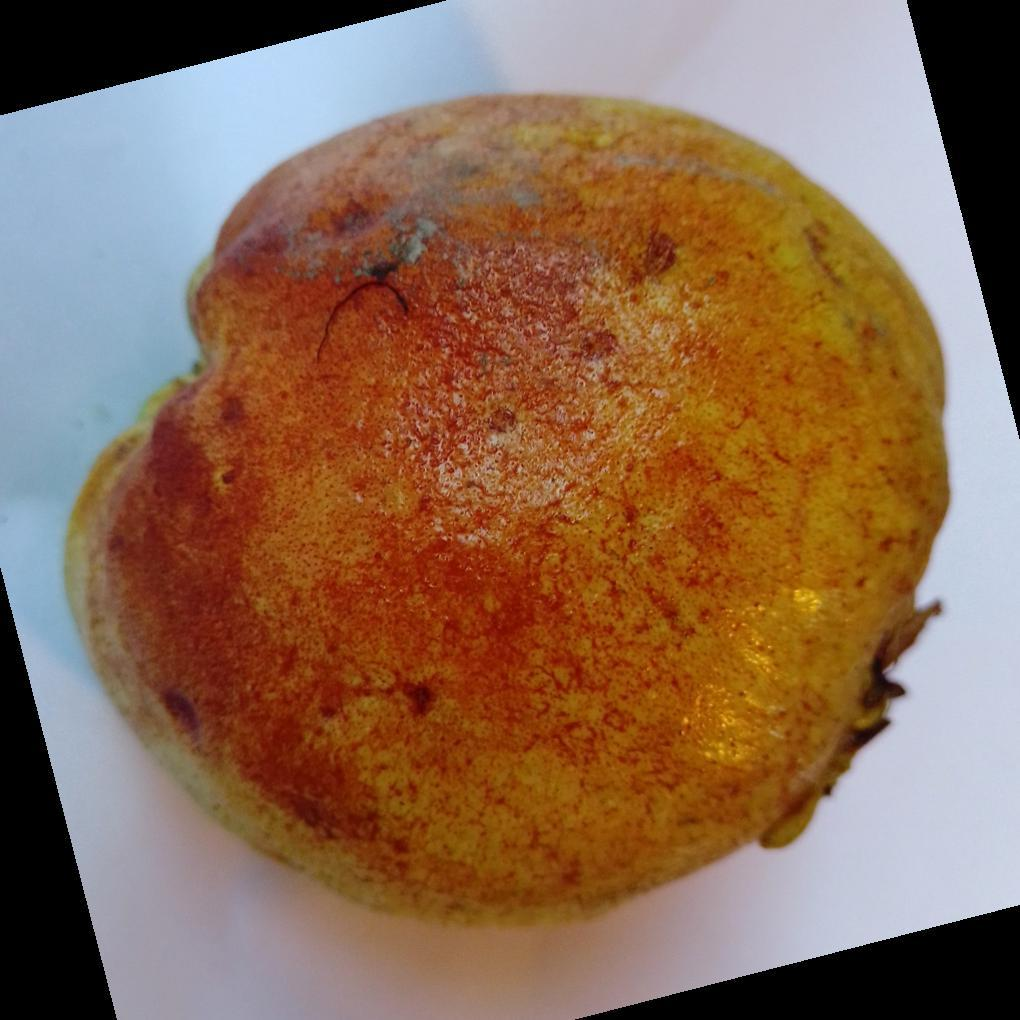FreshOrange: (59, 93, 953, 934)
